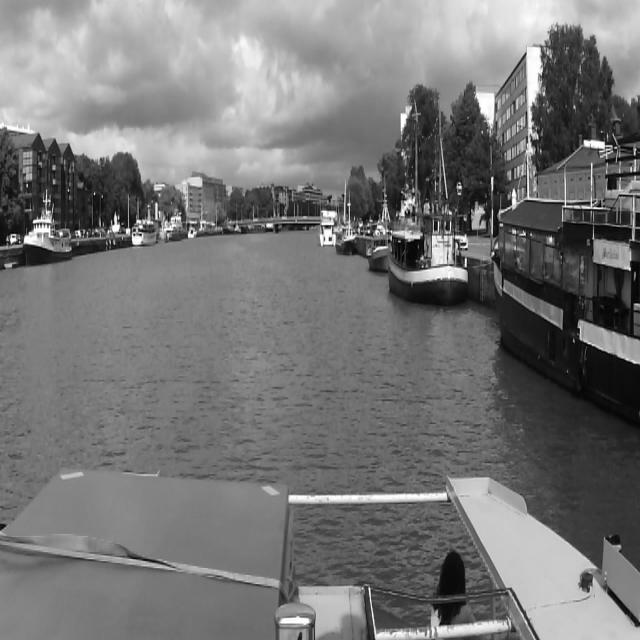ship: (492, 203, 636, 425), (388, 207, 471, 301), (23, 198, 73, 266), (130, 211, 158, 249), (367, 232, 389, 271), (160, 213, 186, 241), (320, 210, 336, 249), (337, 229, 357, 255), (187, 225, 196, 238)
